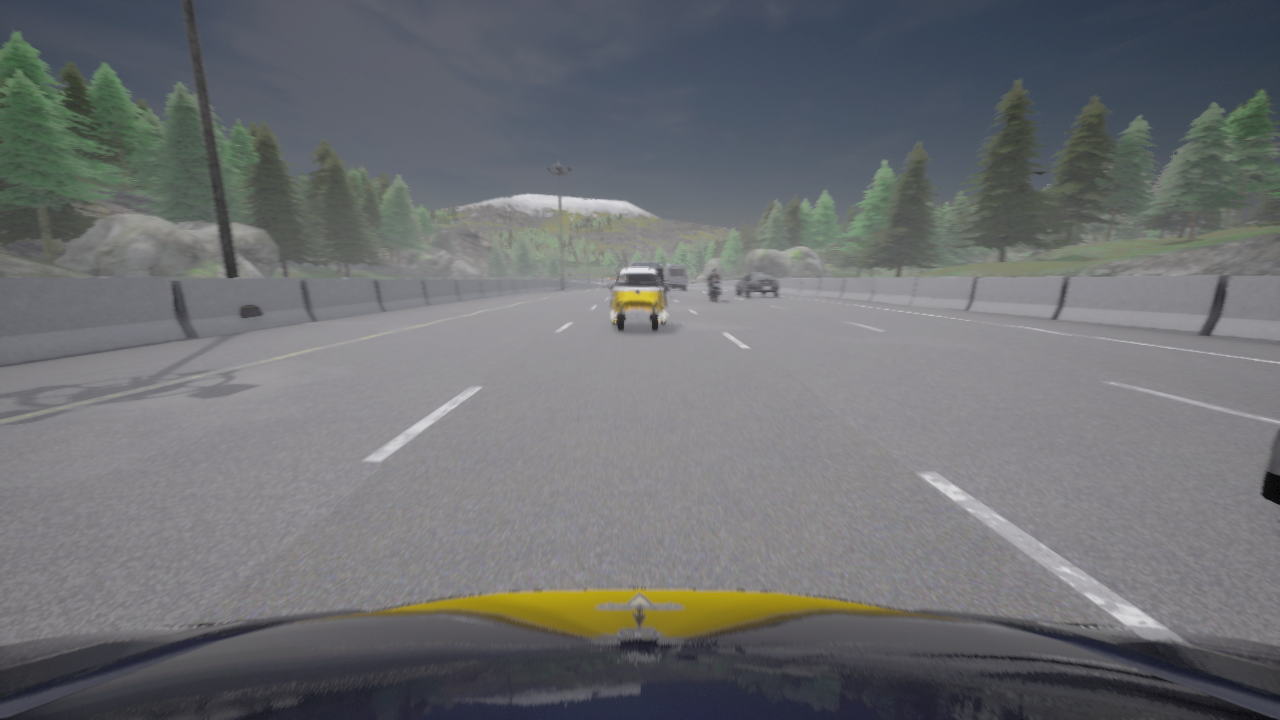cyclist: (0, 588, 1279, 719), (608, 267, 669, 330), (1260, 428, 1279, 505), (629, 262, 665, 293), (736, 272, 779, 296), (665, 263, 686, 290), (705, 277, 720, 301)
